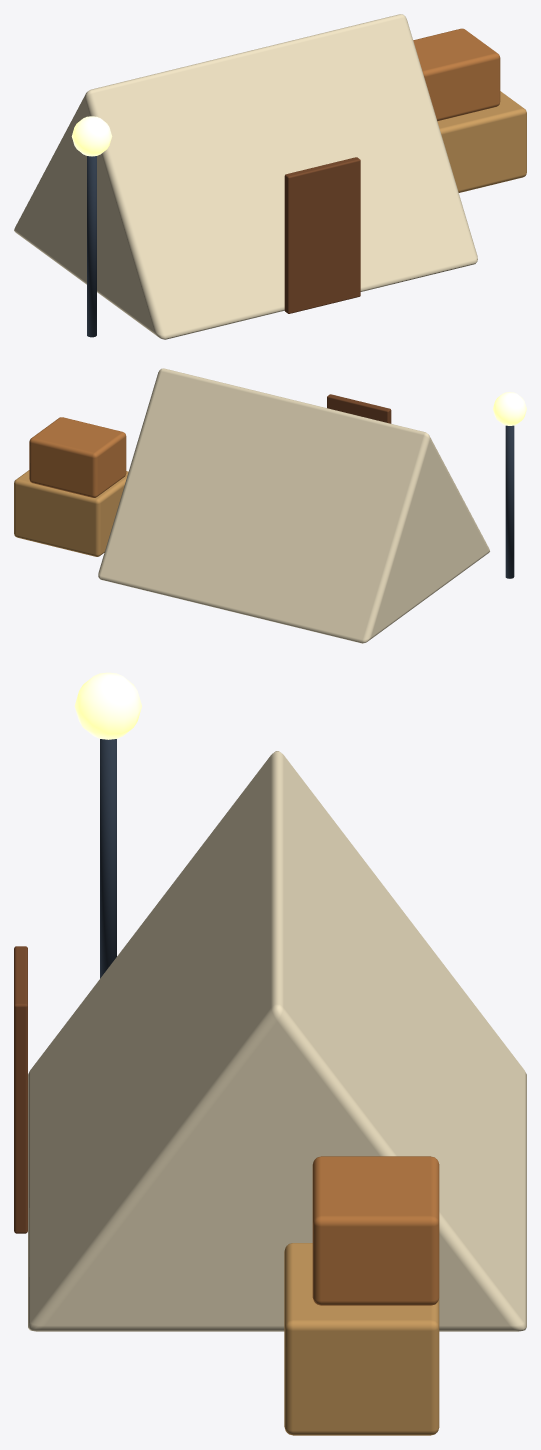
The model's file is camp.glb.
3 renders of one model, top to bottom at view 1: azimuth 30°, elevation 25°; view 2: azimuth 150°, elevation 25°; view 3: azimuth 270°, elevation 25°, orthographic. The views are drawn at different scales.
Parts seen in each view (by area): view 1: camp; view 2: camp; view 3: camp.
Part boxes in pixels (left/top/right/bottom): camp: left=14, top=14, right=526, bottom=339; camp: left=14, top=368, right=526, bottom=643; camp: left=14, top=672, right=526, bottom=1435.
Bounding box in the file's own units: 3.47 × 1.42 × 1.82.
